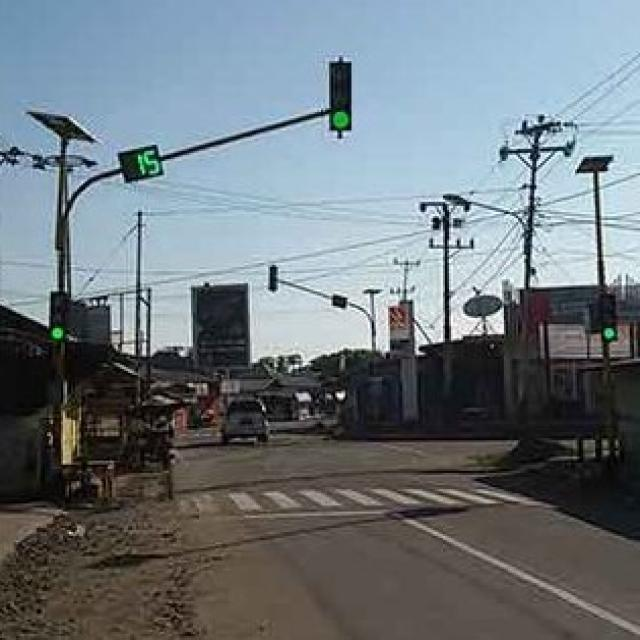green_light: (327, 56, 349, 135), (588, 287, 616, 342), (47, 289, 70, 340)
